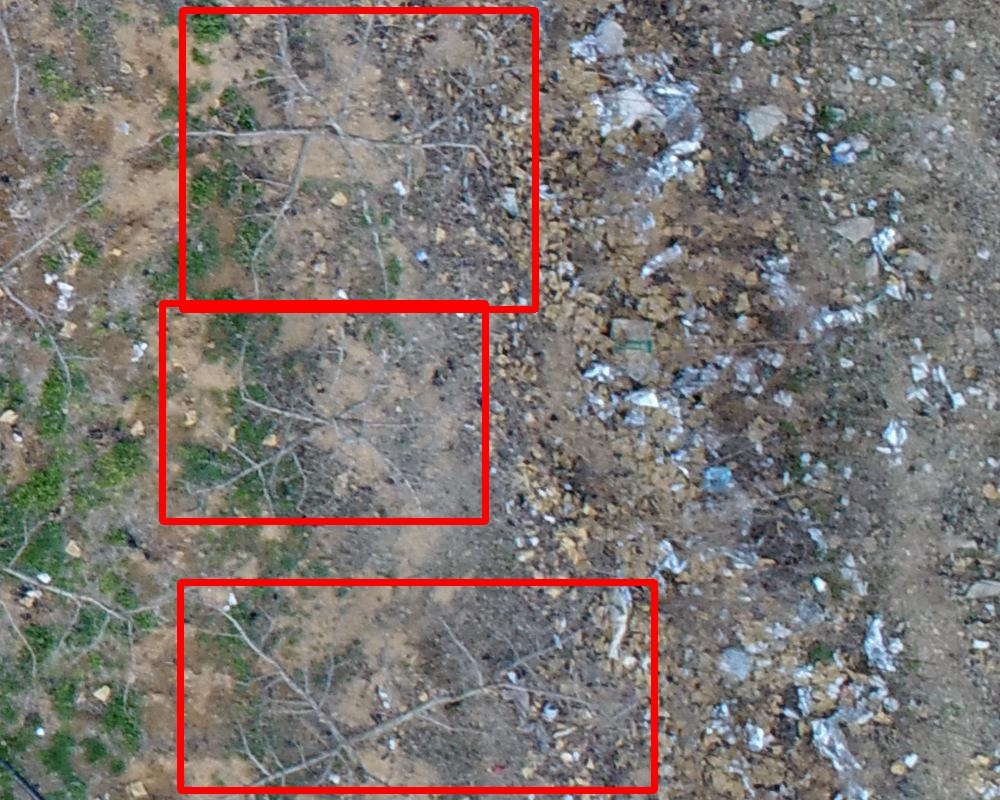apple: (182, 10, 535, 309), (180, 582, 654, 790), (162, 303, 485, 521)
